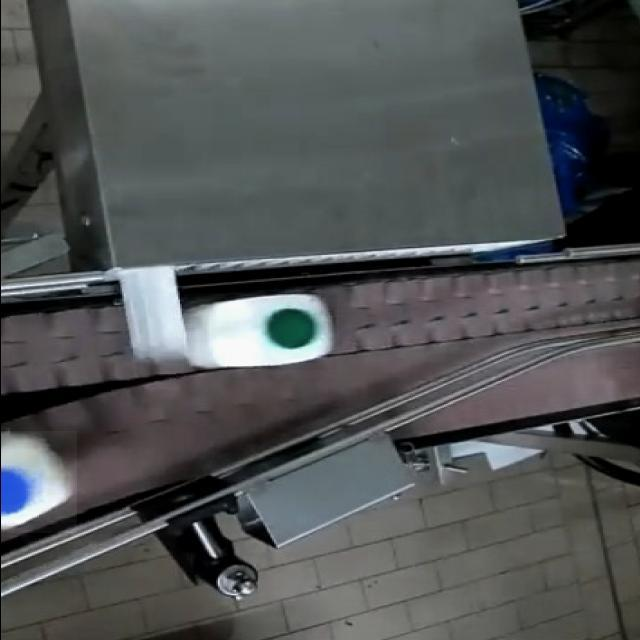blue: (0, 419, 82, 520)
green: (170, 269, 347, 385)
